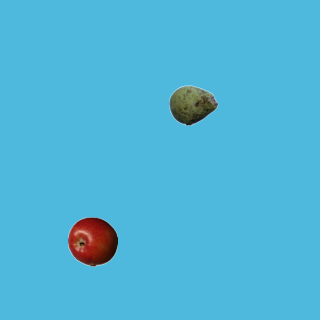Apple Braeburn: (67, 216, 117, 266)
Pear Stone: (168, 80, 218, 130)
